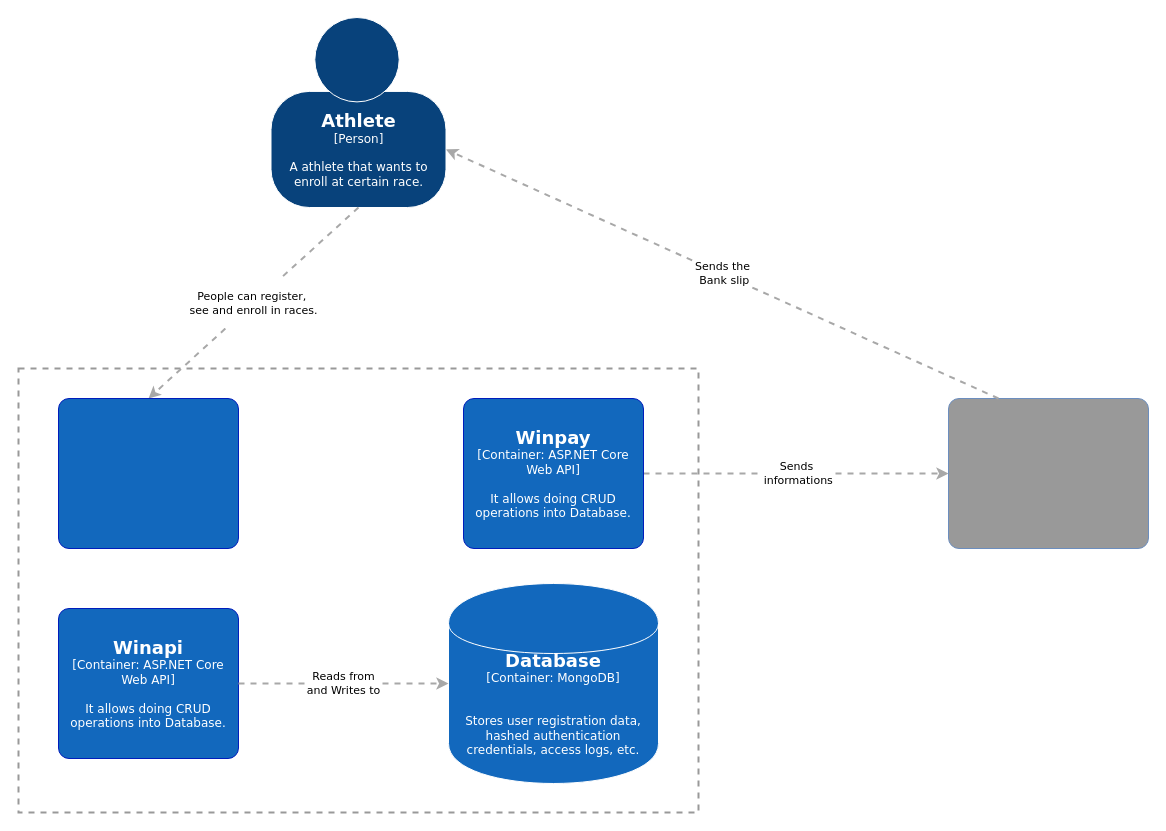
Some shapes in this 1166 by 831 pixel diagram are drawn without their labels. The shapes that lost their labels are listed below. From the top down, each one's box as (x1, y1, x2, y2) in pixels, then its label:
(58, 398, 238, 548): Winux [Container: ASP.NET Core MVC]
(948, 398, 1148, 548): Payment Service [Software System] Allows to generate Bank slip to users pay.
